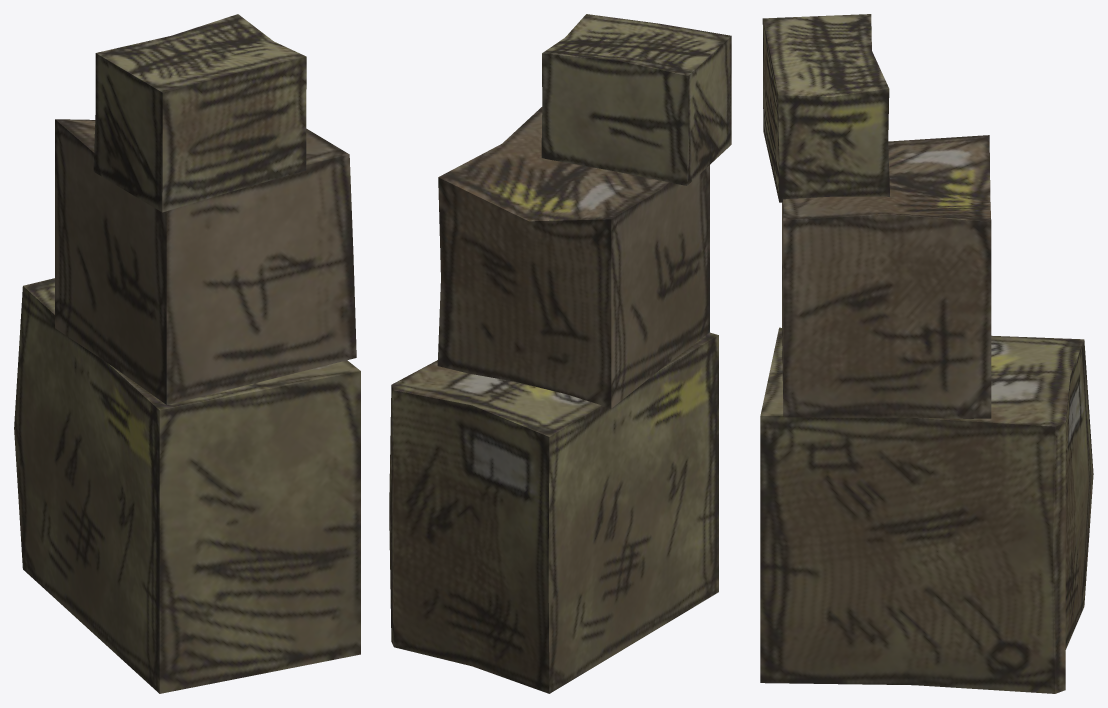
File: boxcardboard2.fbx
3 renders of one model, left to right at view 1: azimuth 30°, elevation 25°; view 2: azimuth 150°, elevation 25°; view 3: azimuth 270°, elevation 25°, orthographic. The views are drawn at different scales.
Parts seen in each view (by area): view 1: Boxes.017; view 2: Boxes.017; view 3: Boxes.017.
Boxes of the visible parts, x1,y1,x2,y2 form: Boxes.017: [14, 14, 360, 693]; Boxes.017: [389, 14, 731, 693]; Boxes.017: [760, 14, 1093, 693].
Size of the model in its own units: 43 by 107 by 56.19.
